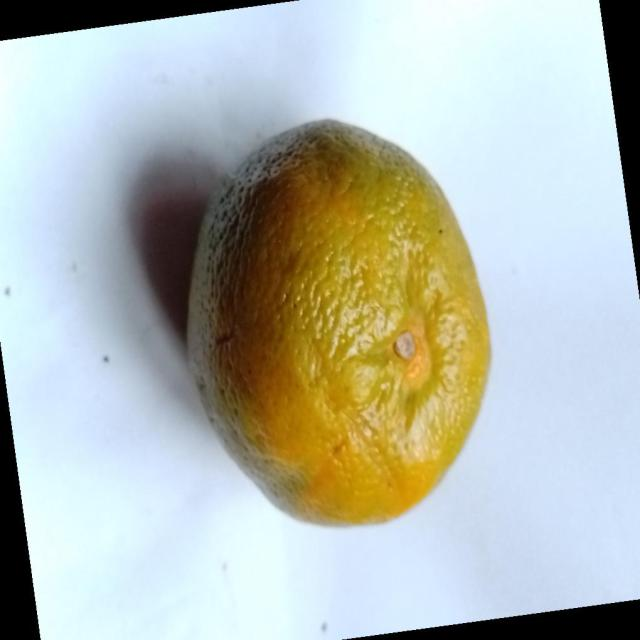fresh orange: (184, 117, 492, 528)
